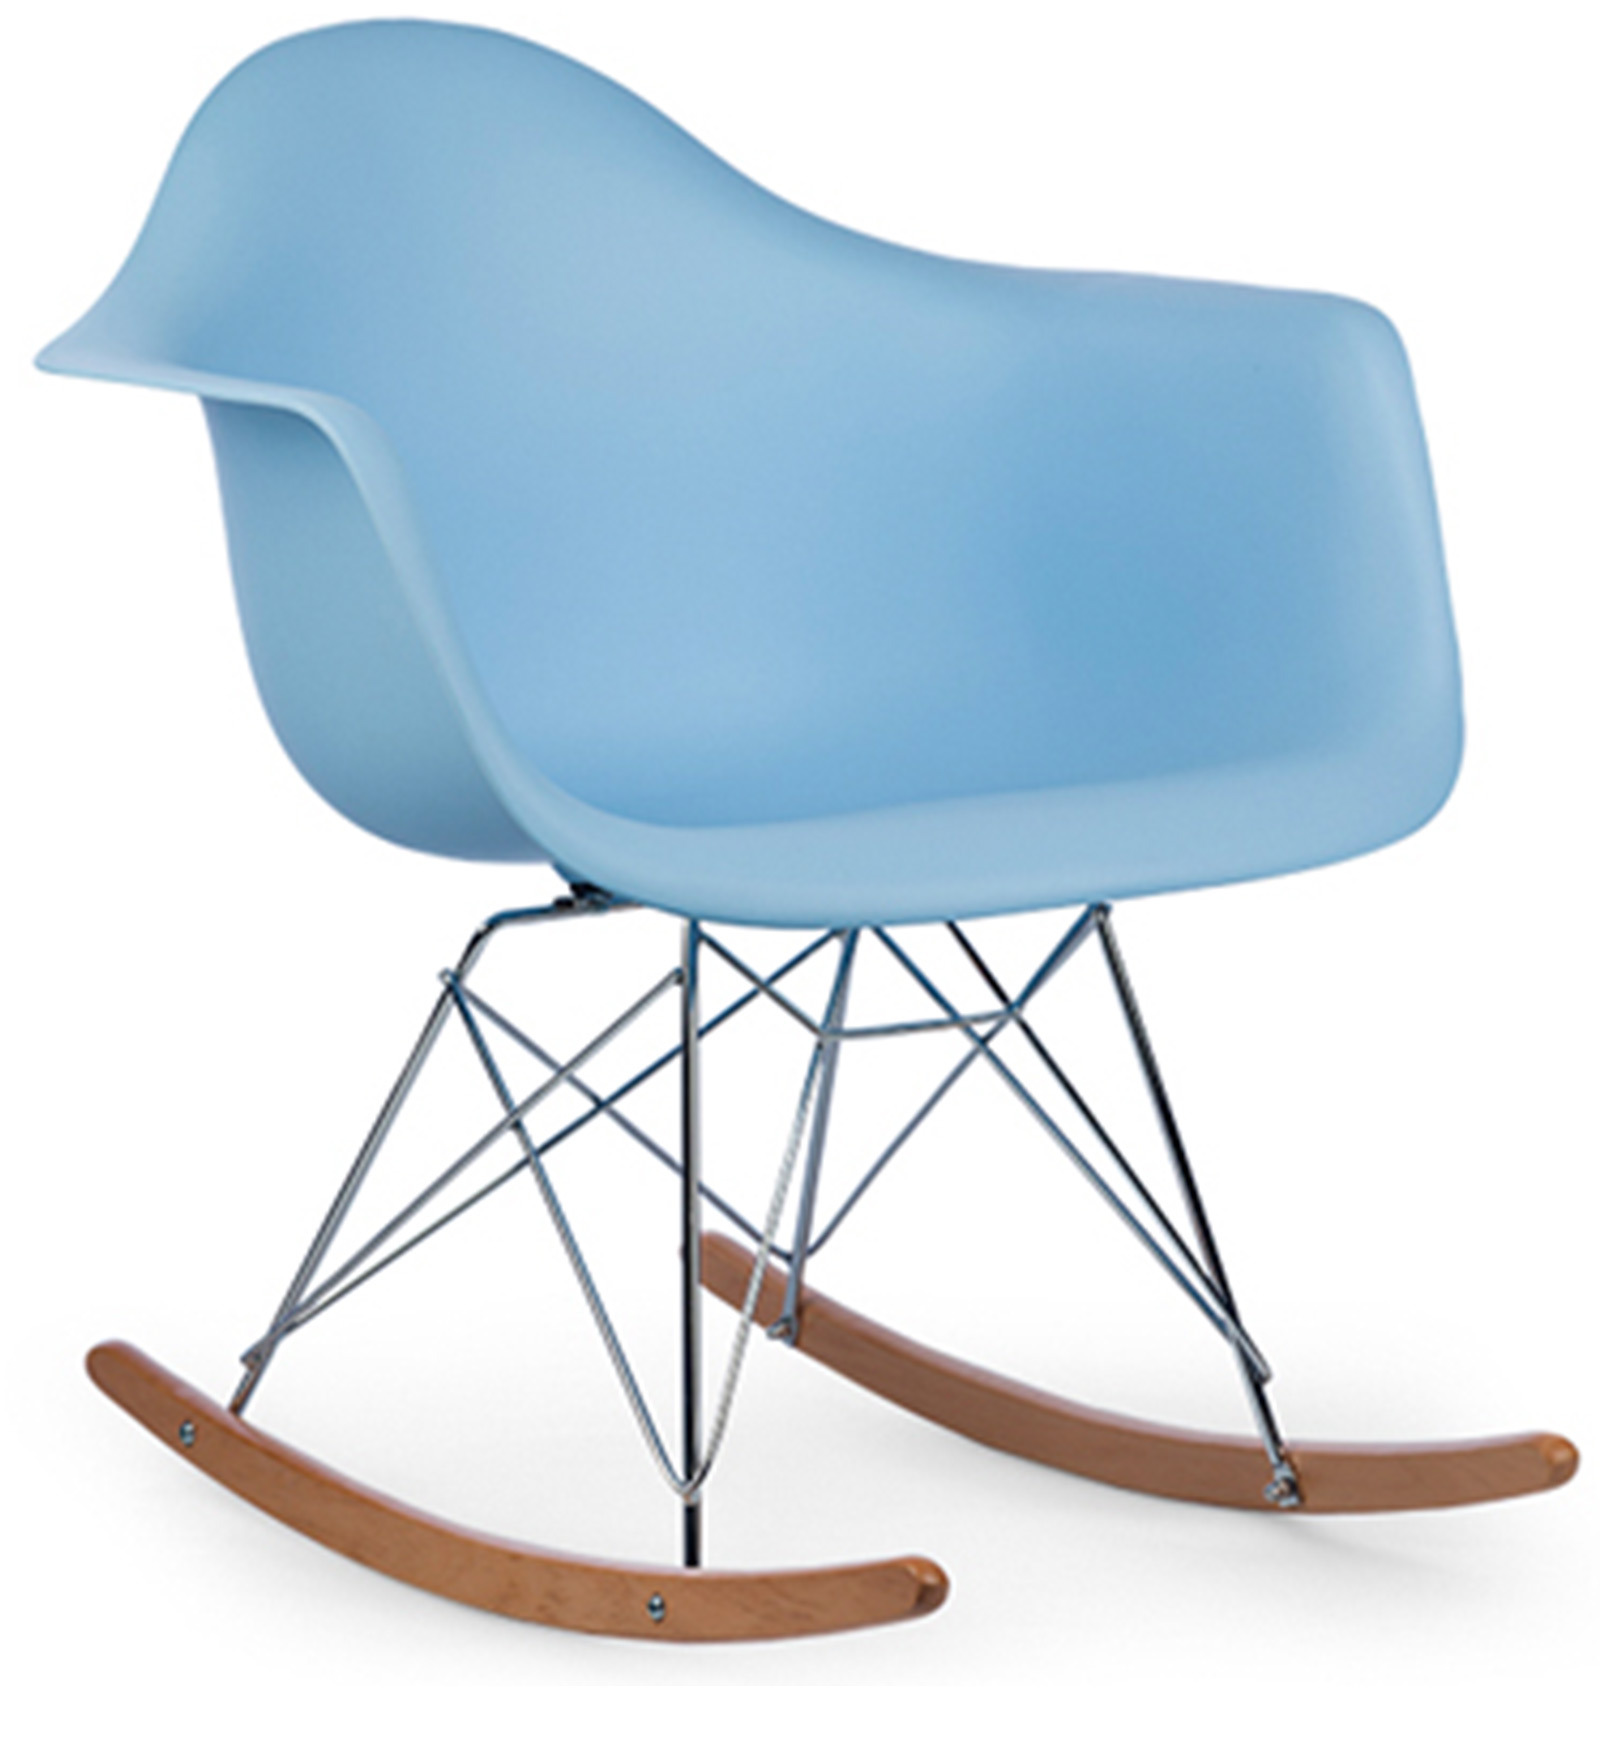Daytona Beach Club Rocking Chair in Robin Blue Colour by HomeHQ: (25, 17, 1589, 1642)
